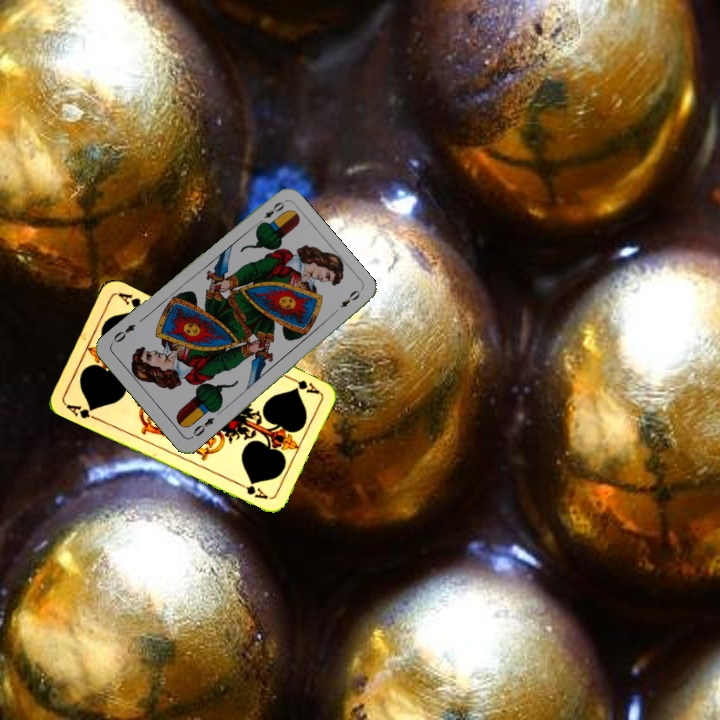EO: (253, 197, 287, 228), (187, 413, 217, 441)
GA: (284, 372, 322, 397), (62, 400, 101, 423)
